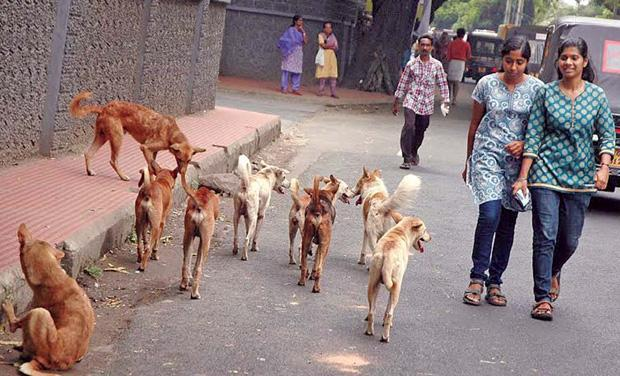normal_dogs: (1, 213, 99, 376), (60, 85, 194, 182), (364, 198, 432, 348), (350, 157, 423, 265), (231, 156, 291, 262), (286, 170, 352, 262), (179, 164, 221, 303), (295, 174, 337, 294), (135, 156, 177, 272)
